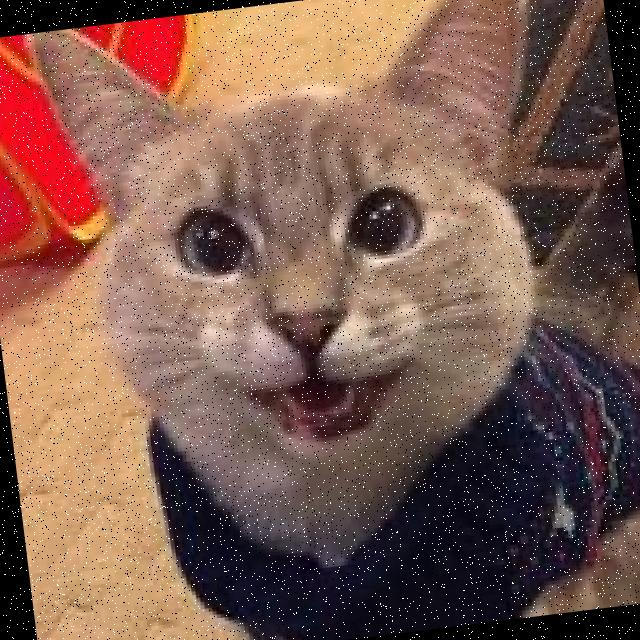Happy: (108, 103, 492, 482)
